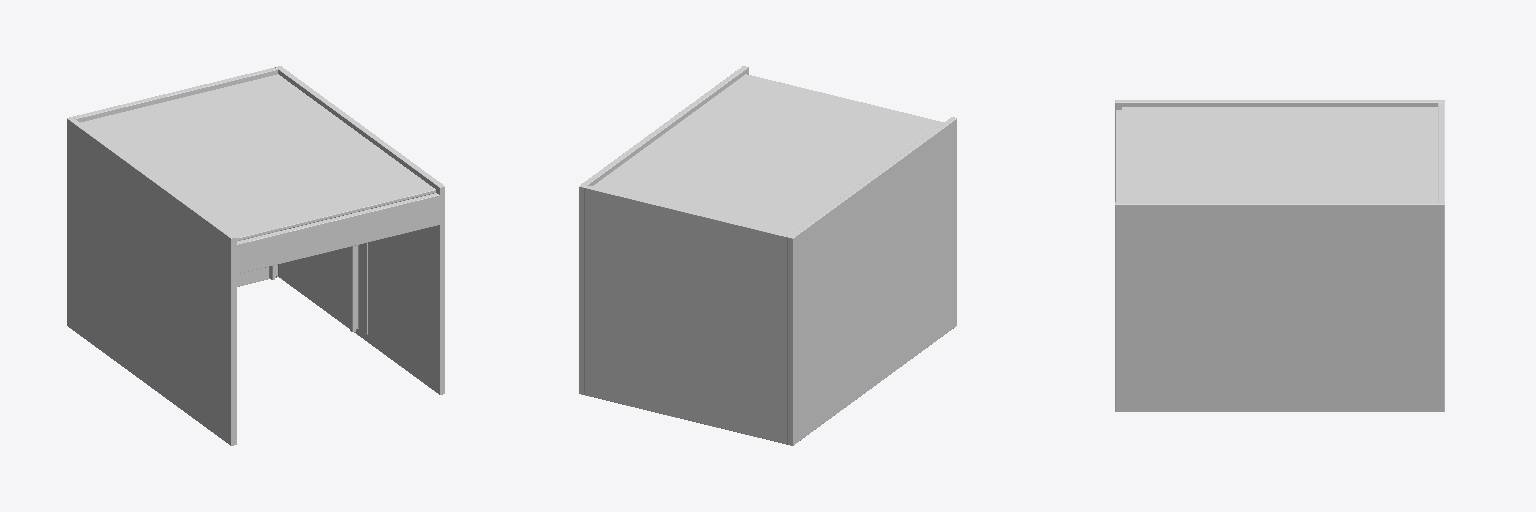
The picture shows the model from 3 angles: view 1: azimuth 30°, elevation 25°; view 2: azimuth 150°, elevation 25°; view 3: azimuth 270°, elevation 25°; orthographic projection.
Visible parts, largest first — view 1: SM_Kitchen_08_Sink_Base; view 2: SM_Kitchen_08_Sink_Base; view 3: SM_Kitchen_08_Sink_Base.
Part boxes in pixels (bbox=[...]): SM_Kitchen_08_Sink_Base: bbox=[67, 66, 444, 445]; SM_Kitchen_08_Sink_Base: bbox=[579, 66, 956, 445]; SM_Kitchen_08_Sink_Base: bbox=[1115, 100, 1444, 411].
Bounding box in the file's own units: 0.5999 × 0.5549 × 0.798.
1 materials, 1 textured.